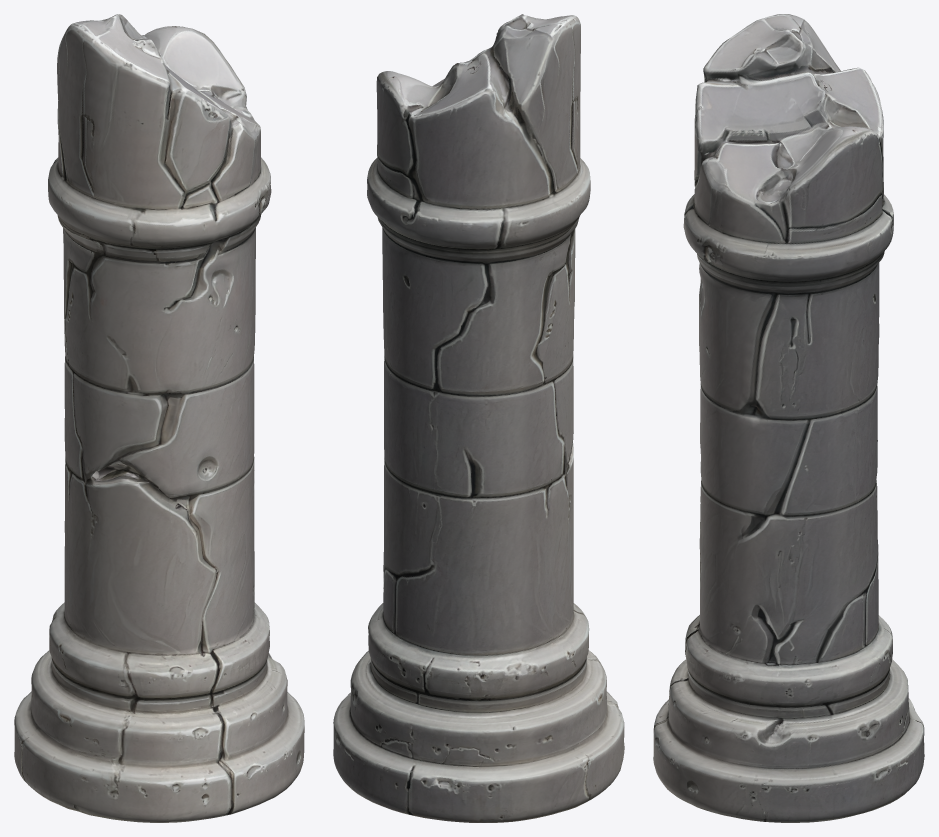
Rendered from PillarProp.glb.
The picture shows the model from 3 angles, left to right: view 1: azimuth 30°, elevation 25°; view 2: azimuth 150°, elevation 25°; view 3: azimuth 270°, elevation 25°; orthographic projection. The views are drawn at different scales.
Parts seen in each view (by area): view 1: texture_mapping; view 2: texture_mapping; view 3: texture_mapping.
Boxes of the visible parts, x1=… form: texture_mapping: x1=14, y1=14, x2=304, y2=822; texture_mapping: x1=333, y1=14, x2=624, y2=822; texture_mapping: x1=653, y1=14, x2=924, y2=822.
Bounding box in the file's own units: 0.3463 × 1 × 0.343.
1 material, 1 textured.
